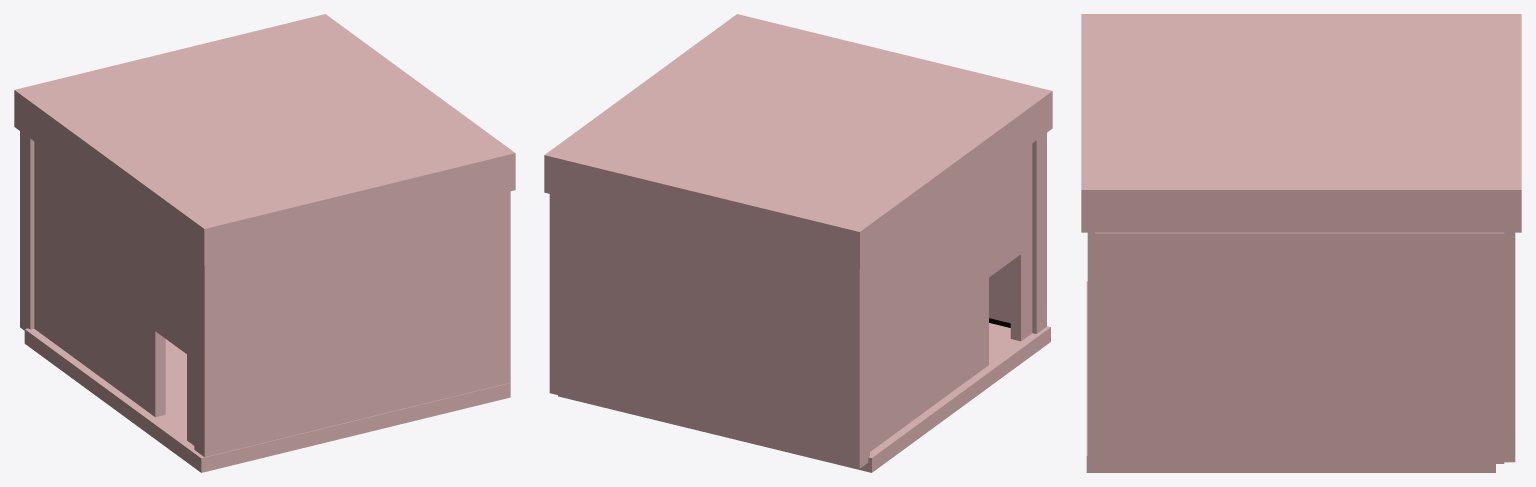
Rendered from structure.fbx.
3 views of the same model, side by side, from view 1: azimuth 30°, elevation 25°; view 2: azimuth 150°, elevation 25°; view 3: azimuth 270°, elevation 25° (orthographic). The views are drawn at different scales.
Visible parts, largest first — view 1: ceiling, wall.003, wall.001, ground, wall; view 2: ceiling, wall, wall.001, ground, wall.003; view 3: ceiling, wall.002, ground, wall, wall.003.
Boxes of the visible parts, x1=… form: ceiling: x1=14, y1=14, x2=515, y2=265; wall.003: x1=194, y1=191, x2=510, y2=457; wall.001: x1=34, y1=142, x2=194, y2=445; ground: x1=24, y1=328, x2=510, y2=472; wall: x1=20, y1=131, x2=34, y2=330; ceiling: x1=544, y1=14, x2=1052, y2=269; wall: x1=549, y1=194, x2=869, y2=468; wall.001: x1=870, y1=144, x2=1032, y2=451; ground: x1=558, y1=323, x2=1050, y2=472; wall.003: x1=989, y1=133, x2=1046, y2=333; ceiling: x1=1081, y1=14, x2=1521, y2=232; wall.002: x1=1095, y1=232, x2=1504, y2=463; ground: x1=1086, y1=281, x2=1495, y2=472; wall: x1=1504, y1=232, x2=1515, y2=462; wall.003: x1=1087, y1=232, x2=1094, y2=462.
Bounding box in the file's own units: 832 × 624 × 876.
